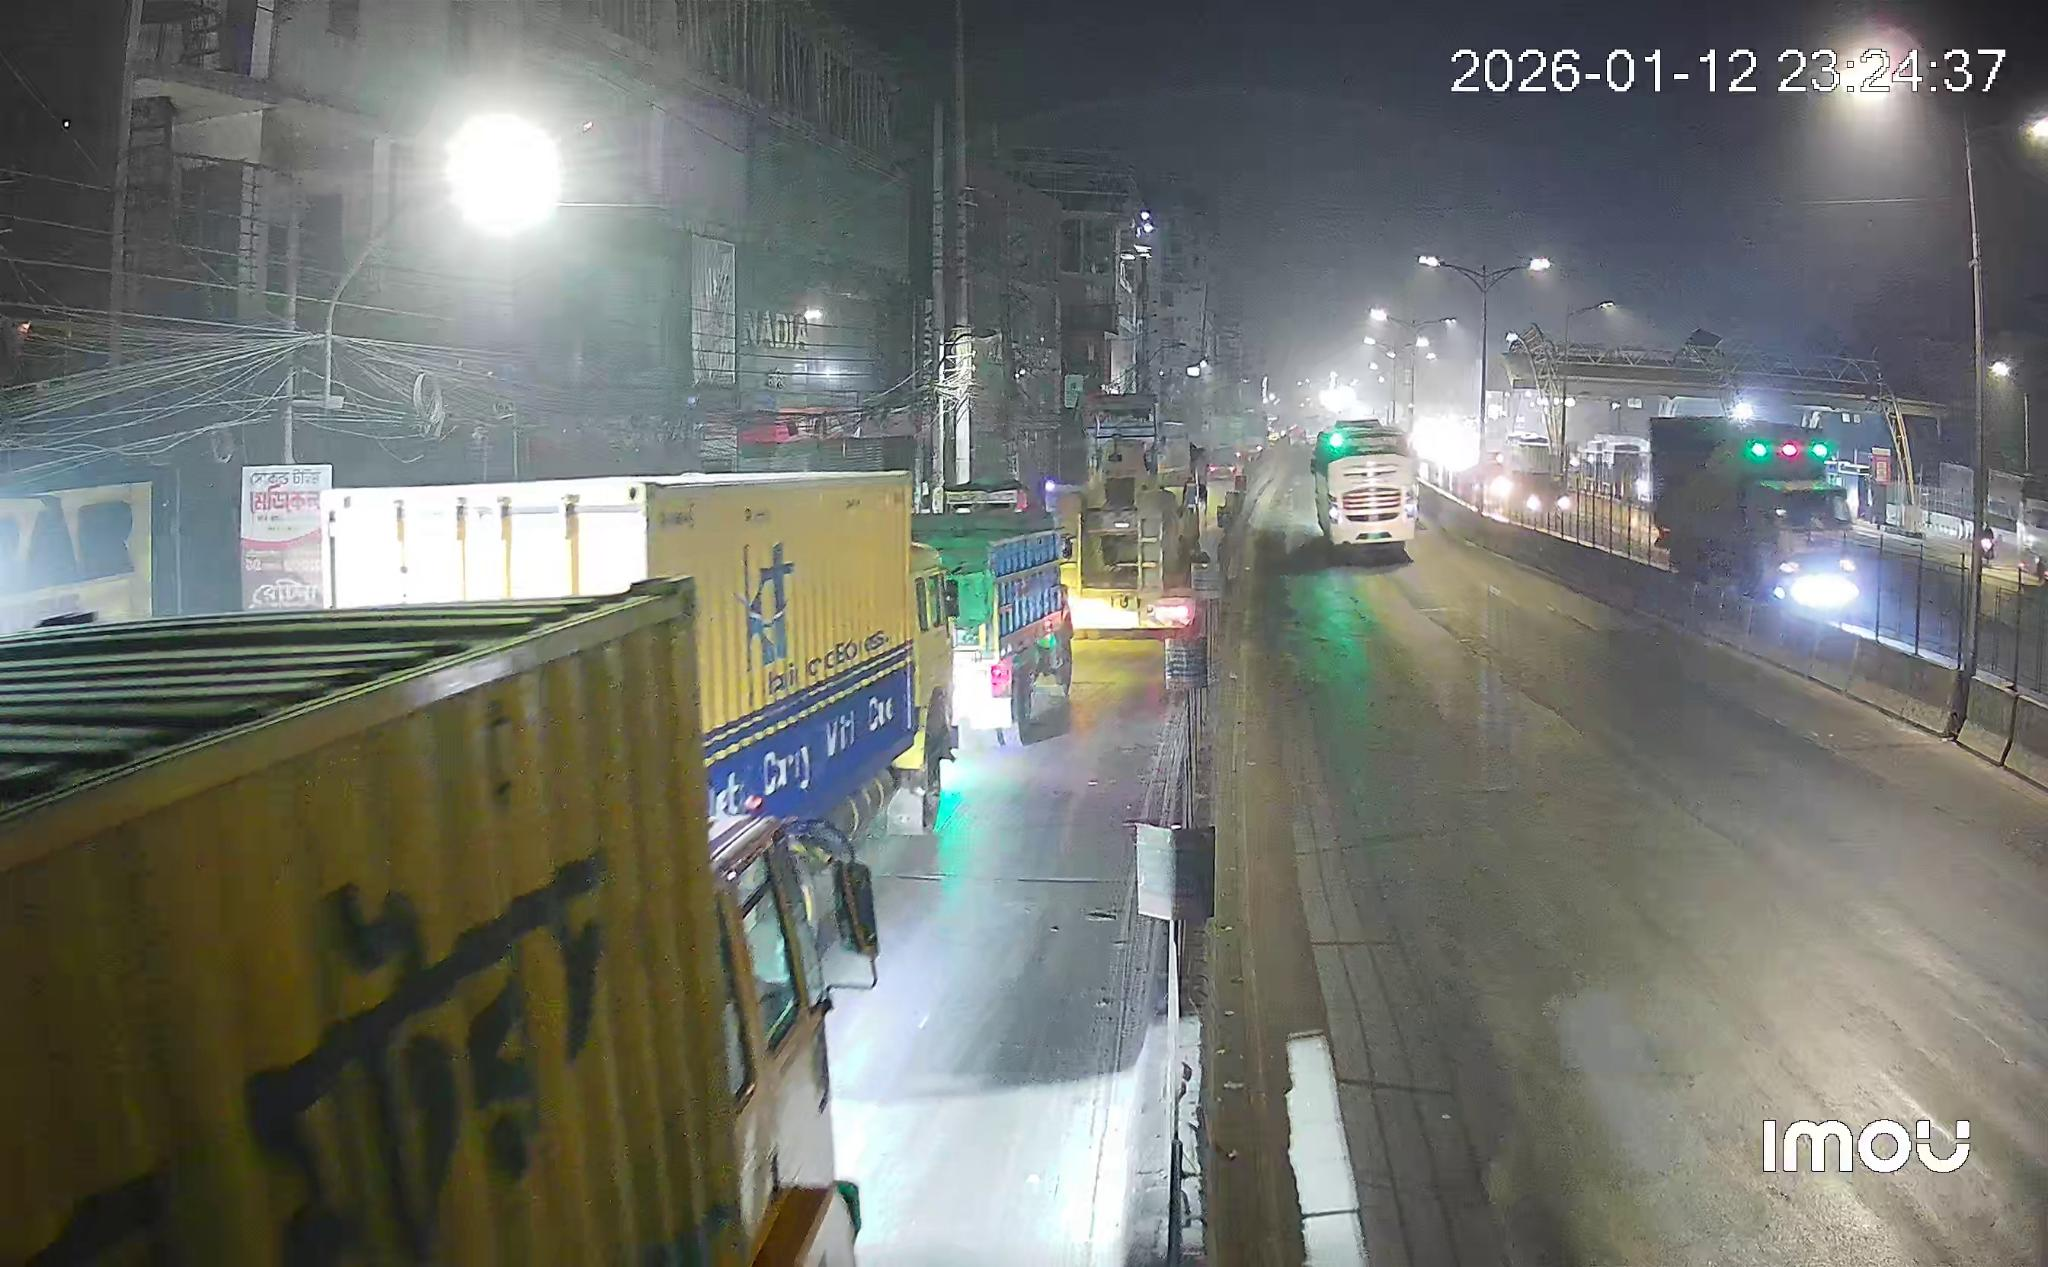Bus: (1309, 418, 1418, 556)
Truck: (0, 578, 878, 1267), (322, 473, 958, 837), (1650, 418, 1859, 617), (914, 512, 1072, 736)
